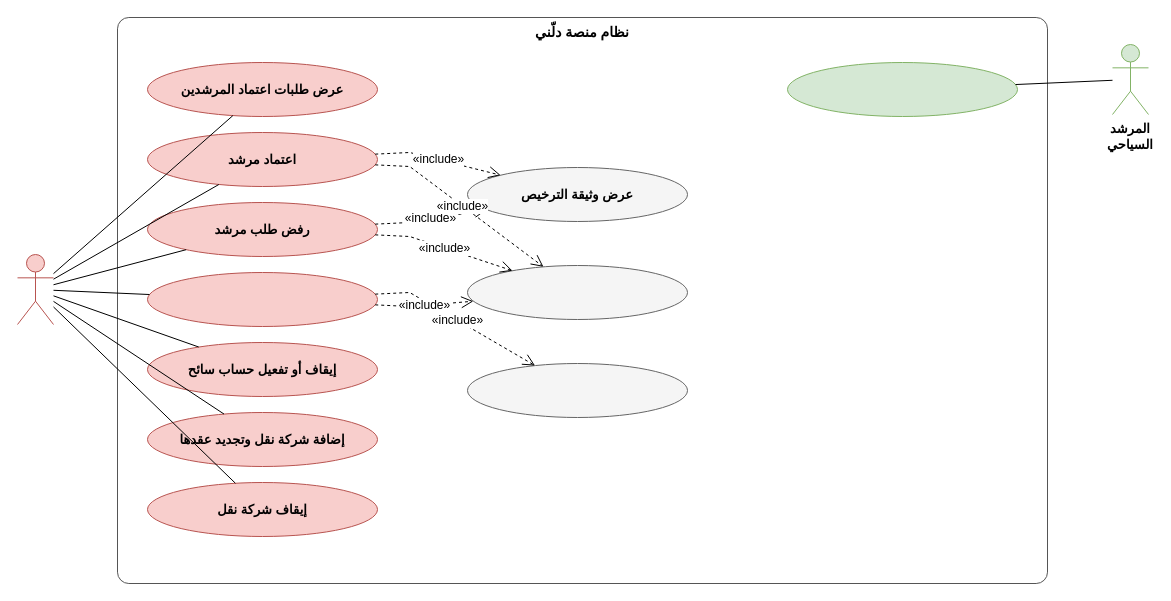
Some shapes in this 1171 by 601 pixel diagram are drawn without their labels. Here are the shapes that lost their labels. From the top down, the centre of each, then its label:
the point at 902,89: إعادة تقديم الطلب المرفوض
the point at 35,289: مدير النظام
the point at 262,299: إيقاف حساب مرشد
the point at 577,292: إرسال إشعار للمستخدم
the point at 577,390: التحقق من عدم وجود رحلات قادمة
